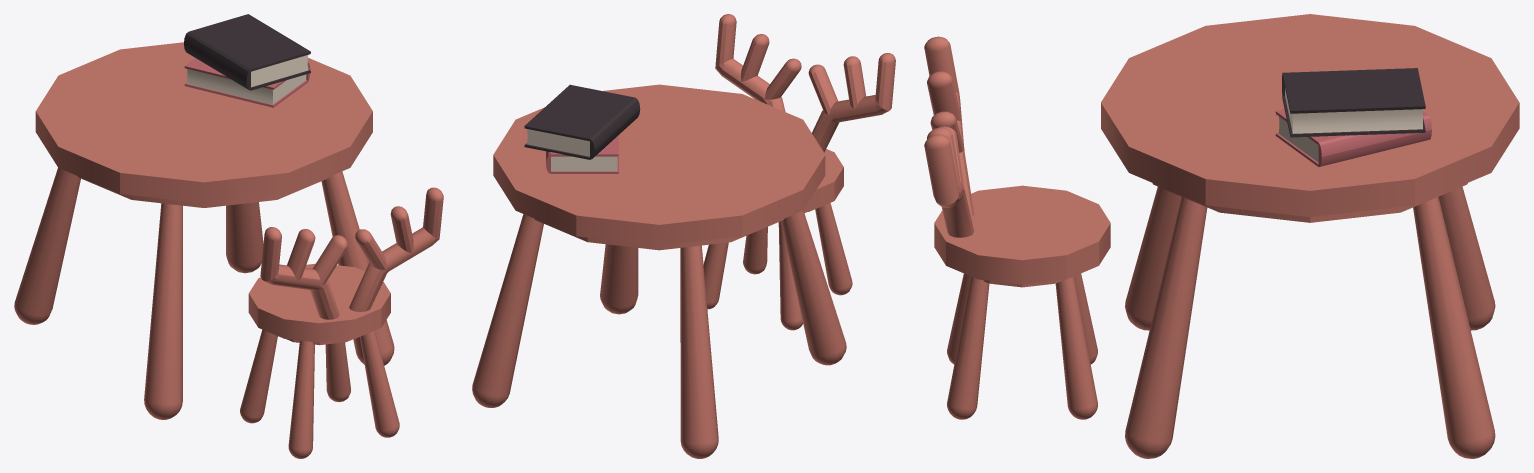
File: Furn5_worktable_color3_joined.fbx
3 renders of one model, left to right at view 1: azimuth 30°, elevation 25°; view 2: azimuth 150°, elevation 25°; view 3: azimuth 270°, elevation 25°, orthographic. The views are drawn at different scales.
Visible parts, largest first — view 1: Куб.001; view 2: Куб.001; view 3: Куб.001.
Part boxes in pixels (x1,y1,x2,y2): Куб.001: (14,14,443,458); Куб.001: (472,14,895,458); Куб.001: (924,14,1519,458).
Bounding box in the file's own units: 185 × 166 × 263.
